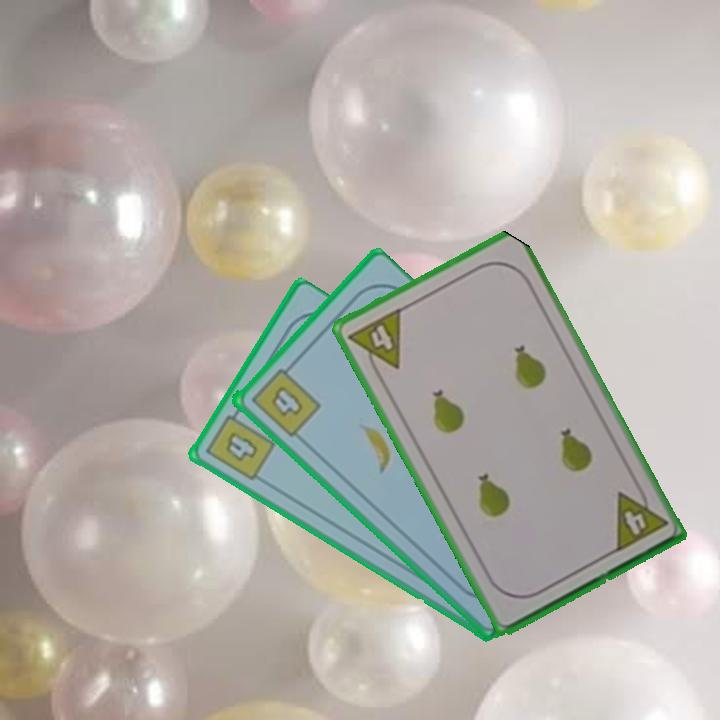4b: (246, 359, 323, 440), (202, 404, 278, 485)
4p: (344, 304, 404, 381), (611, 480, 670, 555)
